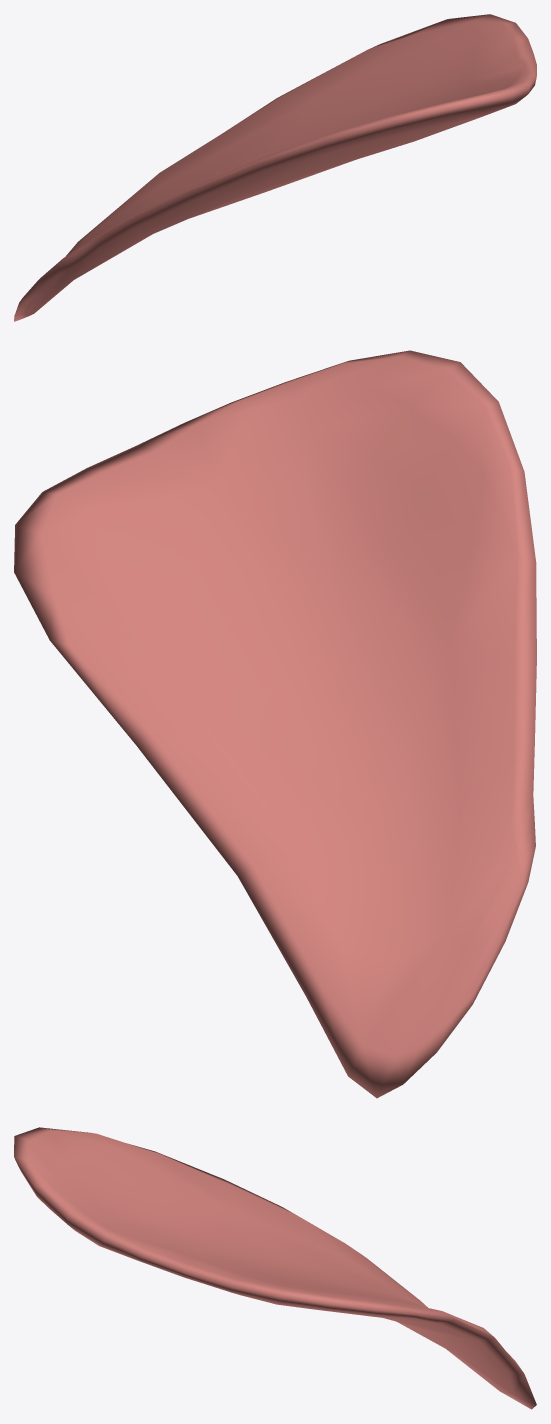
The picture shows the model from 3 angles, top to bottom: view 1: azimuth 30°, elevation 25°; view 2: azimuth 150°, elevation 25°; view 3: azimuth 270°, elevation 25°; orthographic projection. The views are drawn at different scales.
Parts seen in each view (by area): view 1: ZA_fe56891876da4e38; view 2: ZA_fe56891876da4e38; view 3: ZA_fe56891876da4e38.
Boxes of the visible parts, x1=… form: ZA_fe56891876da4e38: x1=14, y1=14, x2=536, y2=321; ZA_fe56891876da4e38: x1=14, y1=350, x2=536, y2=1098; ZA_fe56891876da4e38: x1=14, y1=1127, x2=536, y2=1409.
Size of the model in its own units: 0.0122 by 0.00968 by 0.0125.
